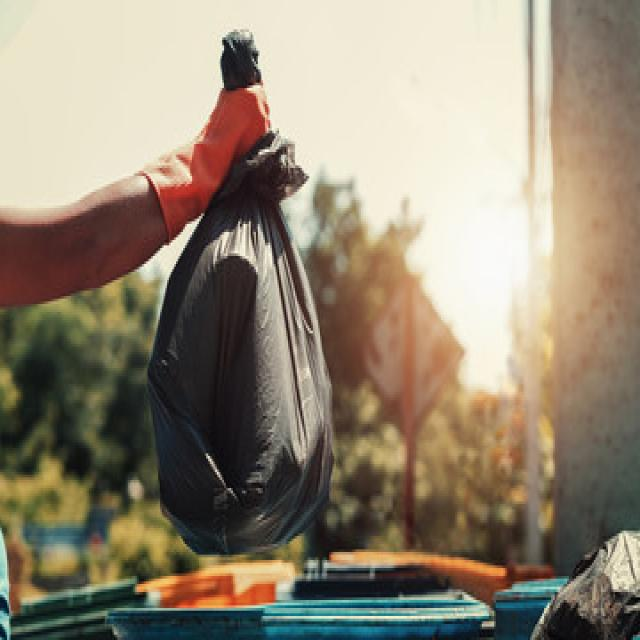trash: (176, 138, 299, 546), (526, 536, 638, 635)
